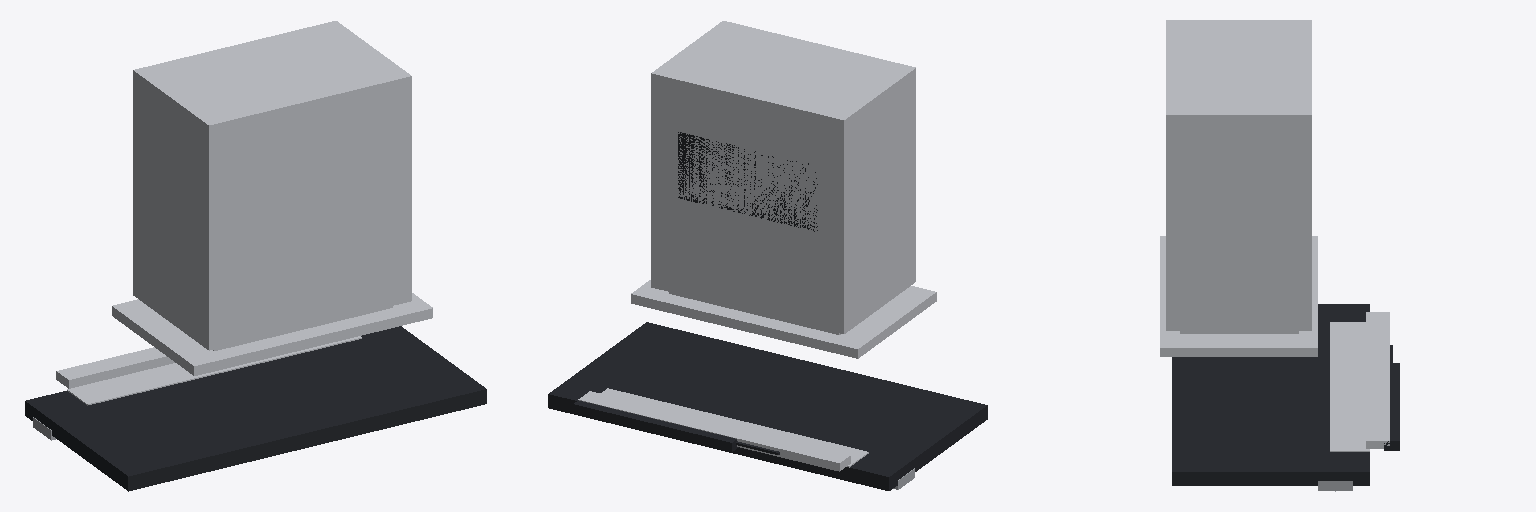
URDF robot description (kitchen_range_hood):
<robot name="kitchen_range_hood">
  <link name="hood_body">
    <inertial>
      <origin xyz="0 0.015 0.29" rpy="0 0 0" />
      <mass value="18" />
      <inertia ixx="0.687" ixy="0" ixz="0" iyy="1.1238" iyz="0" izz="0.87" />
    </inertial>
    <visual>
      <geometry>
        <mesh filename="meshes/range_hood_canopy.glb" />
      </geometry>
      <material name="stainless_steel">
        <color rgba="0.8 0.81 0.83 1" />
      </material>
    </visual>
    <visual>
      <origin xyz="0 -0.028 0.208" rpy="0 0 0" />
      <geometry>
        <box size="0.4 0.24 0.016" />
      </geometry>
      <material name="stainless_steel">
        <color rgba="0.8 0.81 0.83 1" />
      </material>
    </visual>
    <visual>
      <origin xyz="0 -0.028 0.41" rpy="0 0 0" />
      <geometry>
        <box size="0.34 0.22 0.36" />
      </geometry>
      <material name="stainless_steel">
        <color rgba="0.8 0.81 0.83 1" />
      </material>
    </visual>
    <visual>
      <origin xyz="0 -0.028 0.223" rpy="0 0 0" />
      <geometry>
        <box size="0.3 0.18 0.032" />
      </geometry>
      <material name="stainless_steel">
        <color rgba="0.8 0.81 0.83 1" />
      </material>
    </visual>
    <visual>
      <origin xyz="0 0.02 0.029" rpy="0 0 0" />
      <geometry>
        <mesh filename="meshes/range_hood_underside_frame.glb" />
      </geometry>
      <material name="brushed_aluminum">
        <color rgba="0.69 0.7 0.72 1" />
      </material>
    </visual>
    <visual>
      <origin xyz="0 0.01 0.04" rpy="0 0 0" />
      <geometry>
        <box size="0.36 0.22 0.024" />
      </geometry>
      <material name="dark_trim">
        <color rgba="0.19 0.2 0.22 1" />
      </material>
    </visual>
    <visual>
      <origin xyz="0 0.02 0.044" rpy="0 0 0" />
      <geometry>
        <box size="0.6 0.3 0.024" />
      </geometry>
      <material name="dark_trim">
        <color rgba="0.19 0.2 0.22 1" />
      </material>
    </visual>
    <visual>
      <origin xyz="0 0.14 0.052" rpy="0 0 0" />
      <geometry>
        <box size="0.46 0.06 0.012" />
      </geometry>
      <material name="stainless_steel">
        <color rgba="0.8 0.81 0.83 1" />
      </material>
    </visual>
    <visual>
      <origin xyz="0 0.182 0.068" rpy="0 0 0" />
      <geometry>
        <box size="0.46 0.036 0.014" />
      </geometry>
      <material name="stainless_steel">
        <color rgba="0.8 0.81 0.83 1" />
      </material>
    </visual>
    <visual>
      <origin xyz="0.09 0.204 0.066" rpy="0 0 0" />
      <geometry>
        <box size="0.28 0.024 0.016" />
      </geometry>
      <material name="dark_trim">
        <color rgba="0.19 0.2 0.22 1" />
      </material>
    </visual>
    <visual>
      <origin xyz="0 0.198 0.068" rpy="0 0 0" />
      <geometry>
        <box size="0.25 0.014 0.004" />
      </geometry>
      <material name="dark_trim">
        <color rgba="0.19 0.2 0.22 1" />
      </material>
    </visual>
    <visual>
      <origin xyz="0 0.082 0.447" rpy="-1.5708 0 0" />
      <geometry>
        <mesh filename="meshes/range_hood_chimney_vent.glb" />
      </geometry>
      <material name="dark_trim">
        <color rgba="0.19 0.2 0.22 1" />
      </material>
    </visual>
    <visual>
      <origin xyz="0 0.076 0.447" rpy="0 0 0" />
      <geometry>
        <box size="0.246 0.012 0.112" />
      </geometry>
      <material name="dark_trim">
        <color rgba="0.19 0.2 0.22 1" />
      </material>
    </visual>
    <visual>
      <origin xyz="-0.275 0.118 0.024" rpy="0 0 0" />
      <geometry>
        <cylinder radius="0.019" length="0.008" />
      </geometry>
      <material name="lens_white">
        <color rgba="0.95 0.97 1 0.45" />
      </material>
    </visual>
    <visual>
      <origin xyz="-0.275 0.118 0.032" rpy="0 0 0" />
      <geometry>
        <box size="0.052 0.052 0.016" />
      </geometry>
      <material name="brushed_aluminum">
        <color rgba="0.69 0.7 0.72 1" />
      </material>
    </visual>
    <visual>
      <origin xyz="0.275 0.118 0.024" rpy="0 0 0" />
      <geometry>
        <cylinder radius="0.019" length="0.008" />
      </geometry>
      <material name="lens_white">
        <color rgba="0.95 0.97 1 0.45" />
      </material>
    </visual>
    <visual>
      <origin xyz="0.275 0.118 0.032" rpy="0 0 0" />
      <geometry>
        <box size="0.052 0.052 0.016" />
      </geometry>
      <material name="brushed_aluminum">
        <color rgba="0.69 0.7 0.72 1" />
      </material>
    </visual>
    <collision name="hood_body__visual_1__hull_001">
      <geometry>
        <mesh filename="meshes/collision/cache/be519ddf8b2af117ed7802d4__hull_001.obj" />
      </geometry>
    </collision>
    <collision name="hood_body__visual_2">
      <origin xyz="0 -0.028 0.208" rpy="0 0 0" />
      <geometry>
        <box size="0.4 0.24 0.016" />
      </geometry>
    </collision>
    <collision name="hood_body__visual_3">
      <origin xyz="0 -0.028 0.41" rpy="0 0 0" />
      <geometry>
        <box size="0.34 0.22 0.36" />
      </geometry>
    </collision>
    <collision name="hood_body__visual_4">
      <origin xyz="0 -0.028 0.223" rpy="0 0 0" />
      <geometry>
        <box size="0.3 0.18 0.032" />
      </geometry>
    </collision>
    <collision name="hood_body__visual_5__hull_001">
      <origin xyz="0 0.02 0.029" rpy="0 0 0" />
      <geometry>
        <mesh filename="meshes/collision/cache/8a486c426ff12e5c9e946d49__hull_001.obj" />
      </geometry>
    </collision>
    <collision name="hood_body__visual_5__hull_002">
      <origin xyz="0 0.02 0.029" rpy="0 0 0" />
      <geometry>
        <mesh filename="meshes/collision/cache/8a486c426ff12e5c9e946d49__hull_002.obj" />
      </geometry>
    </collision>
    <collision name="hood_body__visual_5__hull_003">
      <origin xyz="0 0.02 0.029" rpy="0 0 0" />
      <geometry>
        <mesh filename="meshes/collision/cache/8a486c426ff12e5c9e946d49__hull_003.obj" />
      </geometry>
    </collision>
    <collision name="hood_body__visual_5__hull_004">
      <origin xyz="0 0.02 0.029" rpy="0 0 0" />
      <geometry>
        <mesh filename="meshes/collision/cache/8a486c426ff12e5c9e946d49__hull_004.obj" />
      </geometry>
    </collision>
    <collision name="hood_body__visual_5__hull_005">
      <origin xyz="0 0.02 0.029" rpy="0 0 0" />
      <geometry>
        <mesh filename="meshes/collision/cache/8a486c426ff12e5c9e946d49__hull_005.obj" />
      </geometry>
    </collision>
    <collision name="hood_body__visual_5__hull_006">
      <origin xyz="0 0.02 0.029" rpy="0 0 0" />
      <geometry>
        <mesh filename="meshes/collision/cache/8a486c426ff12e5c9e946d49__hull_006.obj" />
      </geometry>
    </collision>
    <collision name="hood_body__visual_5__hull_007">
      <origin xyz="0 0.02 0.029" rpy="0 0 0" />
      <geometry>
        <mesh filename="meshes/collision/cache/8a486c426ff12e5c9e946d49__hull_007.obj" />
      </geometry>
    </collision>
    <collision name="hood_body__visual_5__hull_008">
      <origin xyz="0 0.02 0.029" rpy="0 0 0" />
      <geometry>
        <mesh filename="meshes/collision/cache/8a486c426ff12e5c9e946d49__hull_008.obj" />
      </geometry>
    </collision>
    <collision name="hood_body__visual_6">
      <origin xyz="0 0.01 0.04" rpy="0 0 0" />
      <geometry>
        <box size="0.36 0.22 0.024" />
      </geometry>
    </collision>
    <collision name="hood_body__visual_7">
      <origin xyz="0 0.02 0.044" rpy="0 0 0" />
      <geometry>
        <box size="0.6 0.3 0.024" />
      </geometry>
    </collision>
    <collision name="hood_body__visual_8">
      <origin xyz="0 0.14 0.052" rpy="0 0 0" />
      <geometry>
        <box size="0.46 0.06 0.012" />
      </geometry>
    </collision>
    <collision name="hood_body__visual_9">
      <origin xyz="0 0.182 0.068" rpy="0 0 0" />
      <geometry>
        <box size="0.46 0.036 0.014" />
      </geometry>
    </collision>
    <collision name="hood_body__visual_10">
      <origin xyz="0.09 0.204 0.066" rpy="0 0 0" />
      <geometry>
        <box size="0.28 0.024 0.016" />
      </geometry>
    </collision>
    <collision name="hood_body__visual_11">
      <origin xyz="0 0.198 0.068" rpy="0 0 0" />
      <geometry>
        <box size="0.25 0.014 0.004" />
      </geometry>
    </collision>
    <collision name="hood_body__visual_12__hull_001">
      <origin xyz="0 0.082 0.447" rpy="-1.5708 0 0" />
      <geometry>
        <mesh filename="meshes/collision/cache/615d06d4f22e577e84a1aefb__hull_001.obj" />
      </geometry>
    </collision>
    <collision name="hood_body__visual_13">
      <origin xyz="0 0.076 0.447" rpy="0 0 0" />
      <geometry>
        <box size="0.246 0.012 0.112" />
      </geometry>
    </collision>
    <collision name="hood_body__visual_14">
      <origin xyz="-0.275 0.118 0.024" rpy="0 0 0" />
      <geometry>
        <cylinder radius="0.019" length="0.008" />
      </geometry>
    </collision>
    <collision name="hood_body__visual_15">
      <origin xyz="-0.275 0.118 0.032" rpy="0 0 0" />
      <geometry>
        <box size="0.052 0.052 0.016" />
      </geometry>
    </collision>
    <collision name="hood_body__visual_16">
      <origin xyz="0.275 0.118 0.024" rpy="0 0 0" />
      <geometry>
        <cylinder radius="0.019" length="0.008" />
      </geometry>
    </collision>
    <collision name="hood_body__visual_17">
      <origin xyz="0.275 0.118 0.032" rpy="0 0 0" />
      <geometry>
        <box size="0.052 0.052 0.016" />
      </geometry>
    </collision>
  </link>
  <link name="left_filter">
    <inertial>
      <origin xyz="0 0.097 -0.007" rpy="0 0 0" />
      <mass value="0.9" />
      <inertia ixx="0.0028374" ixy="0" ixz="0" iyy="0.0044799" iyz="0" izz="0.0072879" />
    </inertial>
    <visual>
      <origin xyz="0 0.097 -0.005" rpy="0 0 0" />
      <geometry>
        <mesh filename="meshes/range_hood_filter.glb" />
      </geometry>
      <material name="brushed_aluminum">
        <color rgba="0.69 0.7 0.72 1" />
      </material>
    </visual>
    <visual>
      <origin xyz="0 0.187 -0.011" rpy="0 0 0" />
      <geometry>
        <box size="0.084 0.01 0.006" />
      </geometry>
      <material name="dark_trim">
        <color rgba="0.19 0.2 0.22 1" />
      </material>
    </visual>
    <collision name="left_filter__visual_1__hull_001">
      <origin xyz="0 0.097 -0.005" rpy="0 0 0" />
      <geometry>
        <mesh filename="meshes/collision/cache/e8e5491c0fb81023d051ddff__hull_001.obj" />
      </geometry>
    </collision>
    <collision name="left_filter__visual_2">
      <origin xyz="0 0.187 -0.011" rpy="0 0 0" />
      <geometry>
        <box size="0.084 0.01 0.006" />
      </geometry>
    </collision>
  </link>
  <link name="right_filter">
    <inertial>
      <origin xyz="0 0.097 -0.007" rpy="0 0 0" />
      <mass value="0.9" />
      <inertia ixx="0.0028374" ixy="0" ixz="0" iyy="0.0044799" iyz="0" izz="0.0072879" />
    </inertial>
    <visual>
      <origin xyz="0 0.097 -0.005" rpy="0 0 0" />
      <geometry>
        <mesh filename="meshes/range_hood_filter.glb" />
      </geometry>
      <material name="brushed_aluminum">
        <color rgba="0.69 0.7 0.72 1" />
      </material>
    </visual>
    <visual>
      <origin xyz="0 0.187 -0.011" rpy="0 0 0" />
      <geometry>
        <box size="0.084 0.01 0.006" />
      </geometry>
      <material name="dark_trim">
        <color rgba="0.19 0.2 0.22 1" />
      </material>
    </visual>
    <collision name="right_filter__visual_1__hull_001">
      <origin xyz="0 0.097 -0.005" rpy="0 0 0" />
      <geometry>
        <mesh filename="meshes/collision/cache/e8e5491c0fb81023d051ddff__hull_001.obj" />
      </geometry>
    </collision>
    <collision name="right_filter__visual_2">
      <origin xyz="0 0.187 -0.011" rpy="0 0 0" />
      <geometry>
        <box size="0.084 0.01 0.006" />
      </geometry>
    </collision>
  </link>
  <link name="fan_switch">
    <inertial>
      <origin xyz="0 -0.002 -0.005" rpy="0 0 0" />
      <mass value="0.05" />
      <inertia ixx="8.33333e-07" ixy="0" ixz="0" iyy="1.23333e-06" iyz="0" izz="1.23333e-06" />
    </inertial>
    <visual>
      <origin xyz="0 0 0" rpy="0 1.5708 0" />
      <geometry>
        <cylinder radius="0.0025" length="0.014" />
      </geometry>
      <material name="black_plastic">
        <color rgba="0.08 0.08 0.09 1" />
      </material>
    </visual>
    <visual>
      <origin xyz="0 -0.002 -0.005" rpy="0 0 0" />
      <geometry>
        <box size="0.014 0.01 0.01" />
      </geometry>
      <material name="black_plastic">
        <color rgba="0.08 0.08 0.09 1" />
      </material>
    </visual>
    <collision name="fan_switch__visual_1">
      <origin xyz="0 0 0" rpy="0 1.5708 0" />
      <geometry>
        <cylinder radius="0.0025" length="0.014" />
      </geometry>
    </collision>
    <collision name="fan_switch__visual_2">
      <origin xyz="0 -0.002 -0.005" rpy="0 0 0" />
      <geometry>
        <box size="0.014 0.01 0.01" />
      </geometry>
    </collision>
  </link>
  <joint name="left_filter_hinge" type="revolute">
    <origin xyz="-0.156 -0.084 0.0205" rpy="0 0 0" />
    <parent link="hood_body" />
    <child link="left_filter" />
    <axis xyz="1 0 0" />
    <limit effort="8" velocity="1.5" lower="-1.18" upper="0" />
  </joint>
  <joint name="right_filter_hinge" type="revolute">
    <origin xyz="0.156 -0.084 0.0205" rpy="0 0 0" />
    <parent link="hood_body" />
    <child link="right_filter" />
    <axis xyz="1 0 0" />
    <limit effort="8" velocity="1.5" lower="-1.18" upper="0" />
  </joint>
  <joint name="fan_switch_hinge" type="revolute">
    <origin xyz="0.208 0.197 0.071" rpy="0 0 0" />
    <parent link="hood_body" />
    <child link="fan_switch" />
    <axis xyz="1 0 0" />
    <limit effort="1" velocity="6" lower="-0.35" upper="0.35" />
  </joint>
</robot>

--- Facts derived from the render (not from the file) ---
Views: 3 orthographic renders of the robot side by side, from view 1: azimuth 30°, elevation 25°; view 2: azimuth 150°, elevation 25°; view 3: azimuth 270°, elevation 25°.
Robot: kitchen_range_hood — 4 links, 3 joints (3 revolute); root link hood_body; default pose: every joint at zero.
Visible links, largest first — view 1: hood_body; view 2: hood_body; view 3: hood_body.
Boxes of the visible links, x1,y1,x2,y2 form: hood_body: (25,21,486,491); hood_body: (548,21,987,490); hood_body: (1160,20,1399,491).
Bounding box of the posed robot: 0.602 × 0.364 × 0.5835 m (x, y, z).
Meshes: 4 distinct files referenced, 0 mesh visuals loaded (none loaded); not drawn: 5 (reference not matched to a file when rendering).
